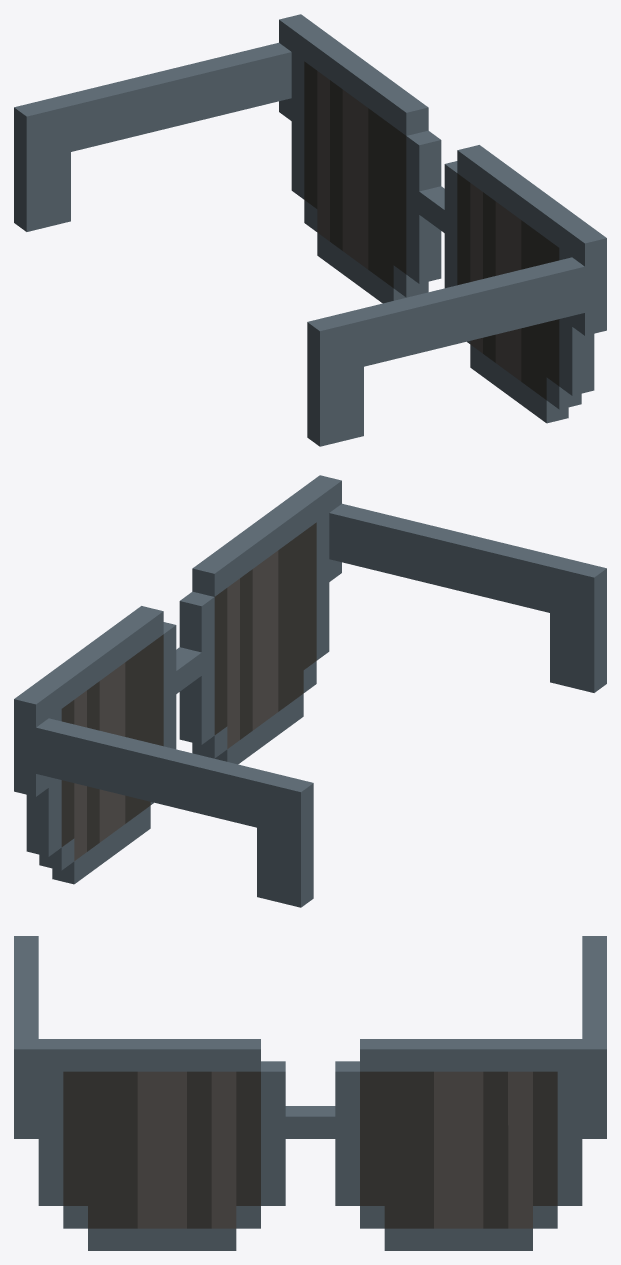
The model's file is av_eyes_shades.glb.
The picture shows the model from 3 angles, top to bottom: view 1: azimuth 30°, elevation 25°; view 2: azimuth 150°, elevation 25°; view 3: azimuth 270°, elevation 25°; orthographic projection. The views are drawn at different scales.
Parts seen in each view (by area): view 1: model; view 2: model; view 3: model.
Part boxes in pixels (box(x1,y1,x2,y2)): model: box(14, 14, 606, 446); model: box(14, 475, 606, 907); model: box(14, 936, 606, 1250).
Size of the model in its own units: 0.13 by 0.09 by 0.24.
1 material, 1 textured.
